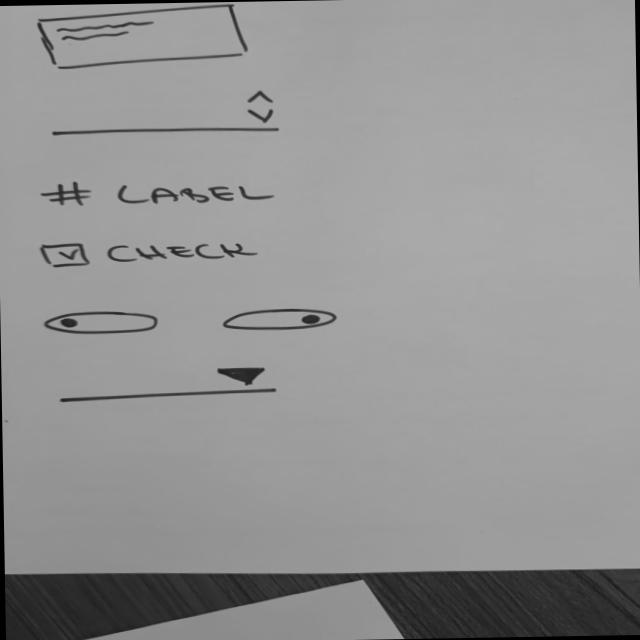checkbox: (32, 236, 270, 269)
label: (38, 176, 278, 210)
number-input: (42, 84, 286, 140)
select: (55, 360, 281, 406)
textarea: (35, 1, 252, 73)
toggle: (38, 308, 164, 336), (218, 304, 342, 332)
